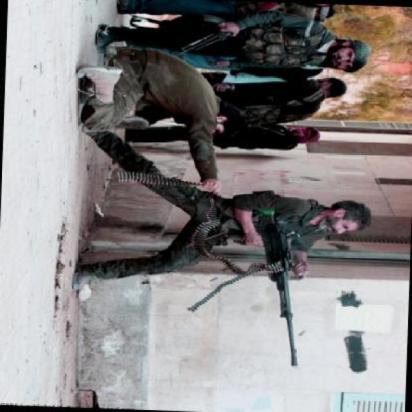Gun: (240, 211, 307, 370)
